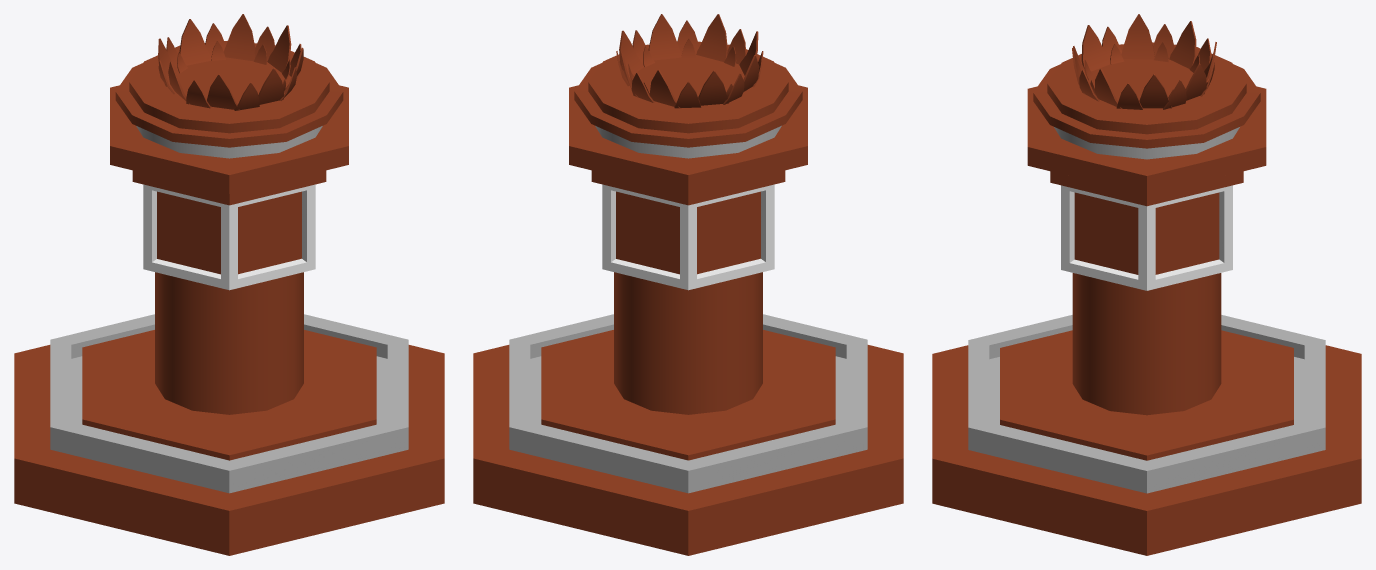
The model's file is baseArtefato.fbx.
3 views of the same model, side by side, from view 1: azimuth 30°, elevation 25°; view 2: azimuth 150°, elevation 25°; view 3: azimuth 270°, elevation 25° (orthographic).
Parts seen in each view (by area): view 1: polySurface13, polySurface22, polySurface21, polySurface18, polySurface17, polySurface15, polySurface20; view 2: polySurface13, polySurface16, polySurface17, polySurface20, polySurface15, polySurface21, polySurface19; view 3: polySurface13, polySurface19, polySurface18, polySurface20, polySurface15, polySurface22, polySurface16.
Part boxes in pixels (x1,y1,x2,y2): polySurface13: (14,40,444,555); polySurface22: (223,14,274,64); polySurface21: (179,19,225,65); polySurface18: (186,74,239,110); polySurface17: (234,68,283,110); polySurface15: (267,25,301,80); polySurface20: (158,37,187,86); polySurface13: (473,41,903,555); polySurface16: (648,14,699,60); polySurface17: (696,14,746,66); polySurface20: (674,70,728,108); polySurface15: (619,30,654,77); polySurface21: (631,69,680,108); polySurface19: (723,55,759,104); polySurface13: (932,42,1361,555); polySurface19: (1121,14,1174,61); polySurface18: (1081,25,1124,71); polySurface20: (1168,21,1211,72); polySurface15: (1116,74,1171,109); polySurface22: (1163,63,1206,109); polySurface16: (1079,68,1122,108).
Size of the model in its own units: 200 by 181 by 173.
